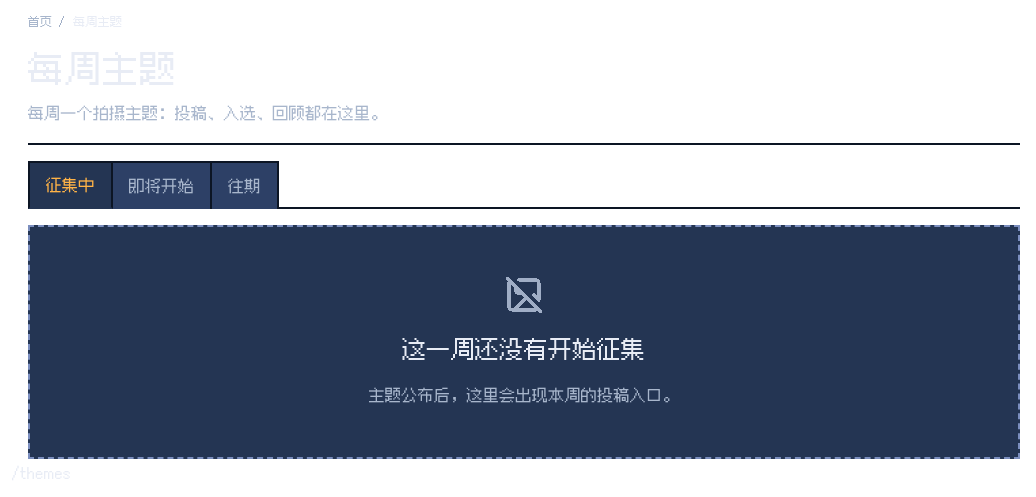
it: 主题列表页 › 三档是键盘可切的 tab，切到「往期」按 past 取数并把档位写进 ?tab=
The width and height of the screenshot is (1036, 497).
Click the tab "往期": (245, 185) [210,161,279,209]
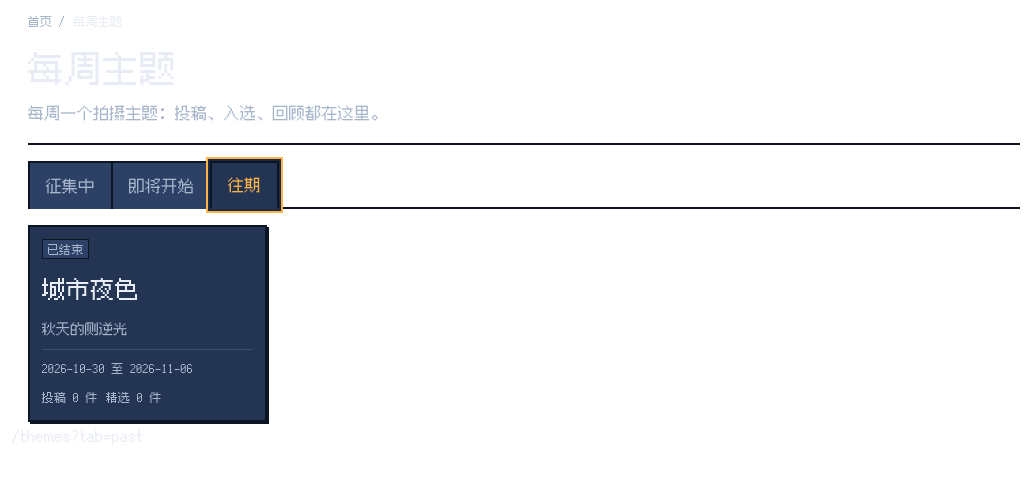
expect the text with test id "location" reads "/themes?tab=past": met, box [12,425,144,446]
expect the list named "往期的主题" is shown: met, box [28,225,267,422]
